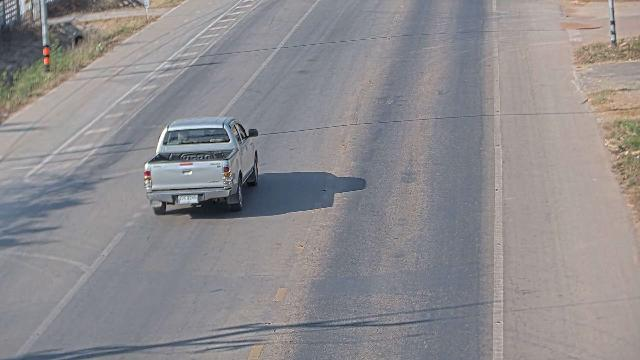pickup-truck: (143, 115, 259, 214)
